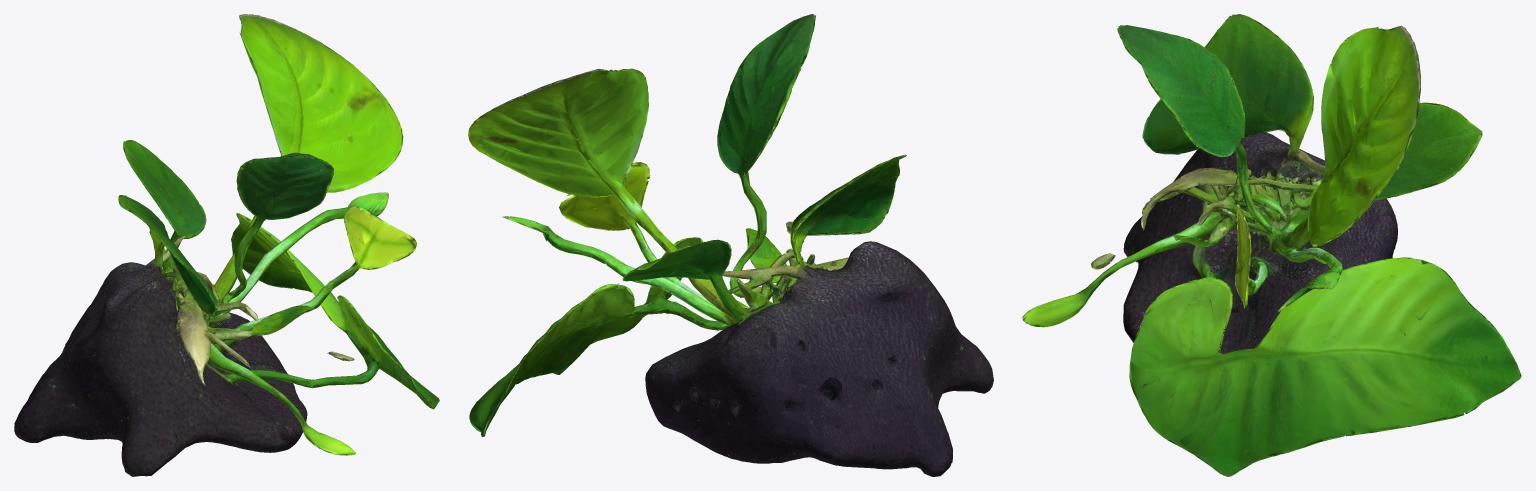
The model's file is anubias.glb.
3 renders of one model, left to right at view 1: azimuth 30°, elevation 25°; view 2: azimuth 150°, elevation 25°; view 3: azimuth 270°, elevation 25°, orthographic. The views are drawn at different scales.
Parts seen in each view (by area): view 1: anubias; view 2: anubias; view 3: anubias.
Boxes of the visible parts, x1,y1,x2,y2 form: anubias: (14,14,439,476); anubias: (468,14,993,476); anubias: (1022,14,1521,476).
Size of the model in its own units: 1 by 0.85 by 0.984.
1 material, 1 textured.
